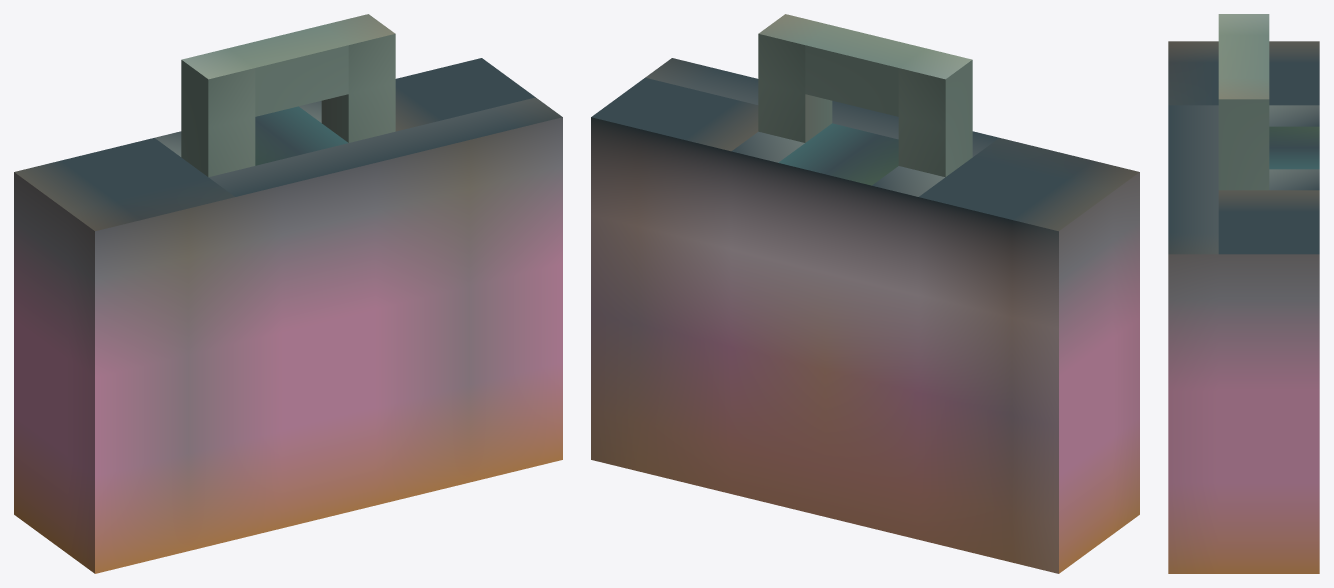
The model's file is BriefcasePink_00.fbx.
3 views of the same model, side by side, from view 1: azimuth 30°, elevation 25°; view 2: azimuth 150°, elevation 25°; view 3: azimuth 270°, elevation 25° (orthographic). The views are drawn at different scales.
Visible parts, largest first — view 1: BriefcasePink_00; view 2: BriefcasePink_00; view 3: BriefcasePink_00.
Boxes of the visible parts, left/top/right/bottom form: BriefcasePink_00: left=14, top=14, right=562, bottom=573; BriefcasePink_00: left=591, top=14, right=1139, bottom=573; BriefcasePink_00: left=1168, top=14, right=1319, bottom=573.
Bounding box in the file's own units: 50 × 15 × 45.
1 material, 1 textured.
